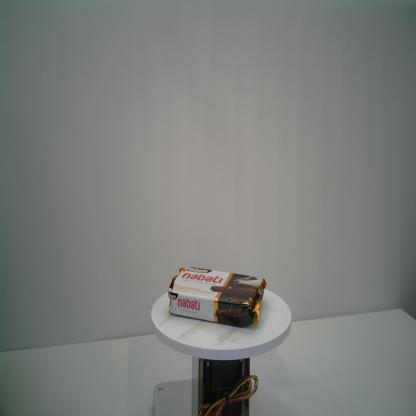Dessert: (168, 264, 269, 330)
